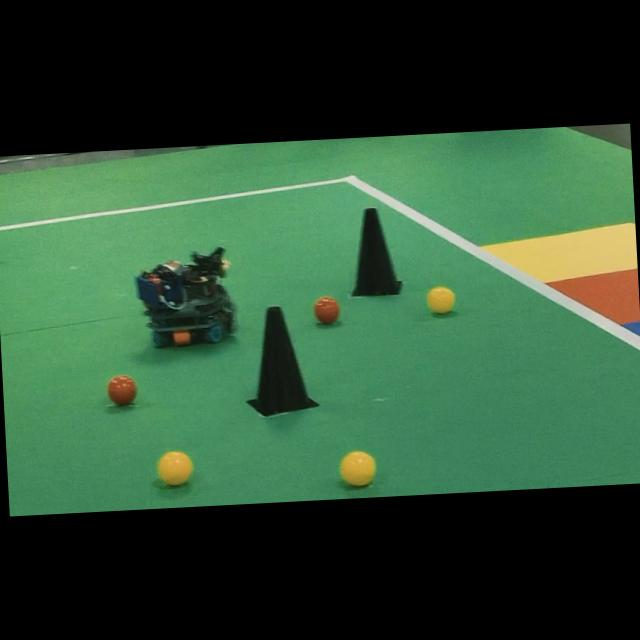ball: (341, 452, 376, 486), (157, 452, 193, 485), (108, 375, 136, 405), (314, 296, 340, 324), (428, 286, 454, 313)
goal: (481, 223, 637, 283), (548, 268, 640, 325), (623, 321, 640, 336)
